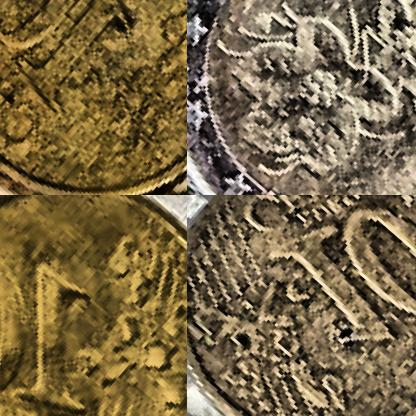coin: (187, 195, 415, 415), (187, 0, 415, 194), (0, 195, 186, 415), (0, 0, 186, 194)
